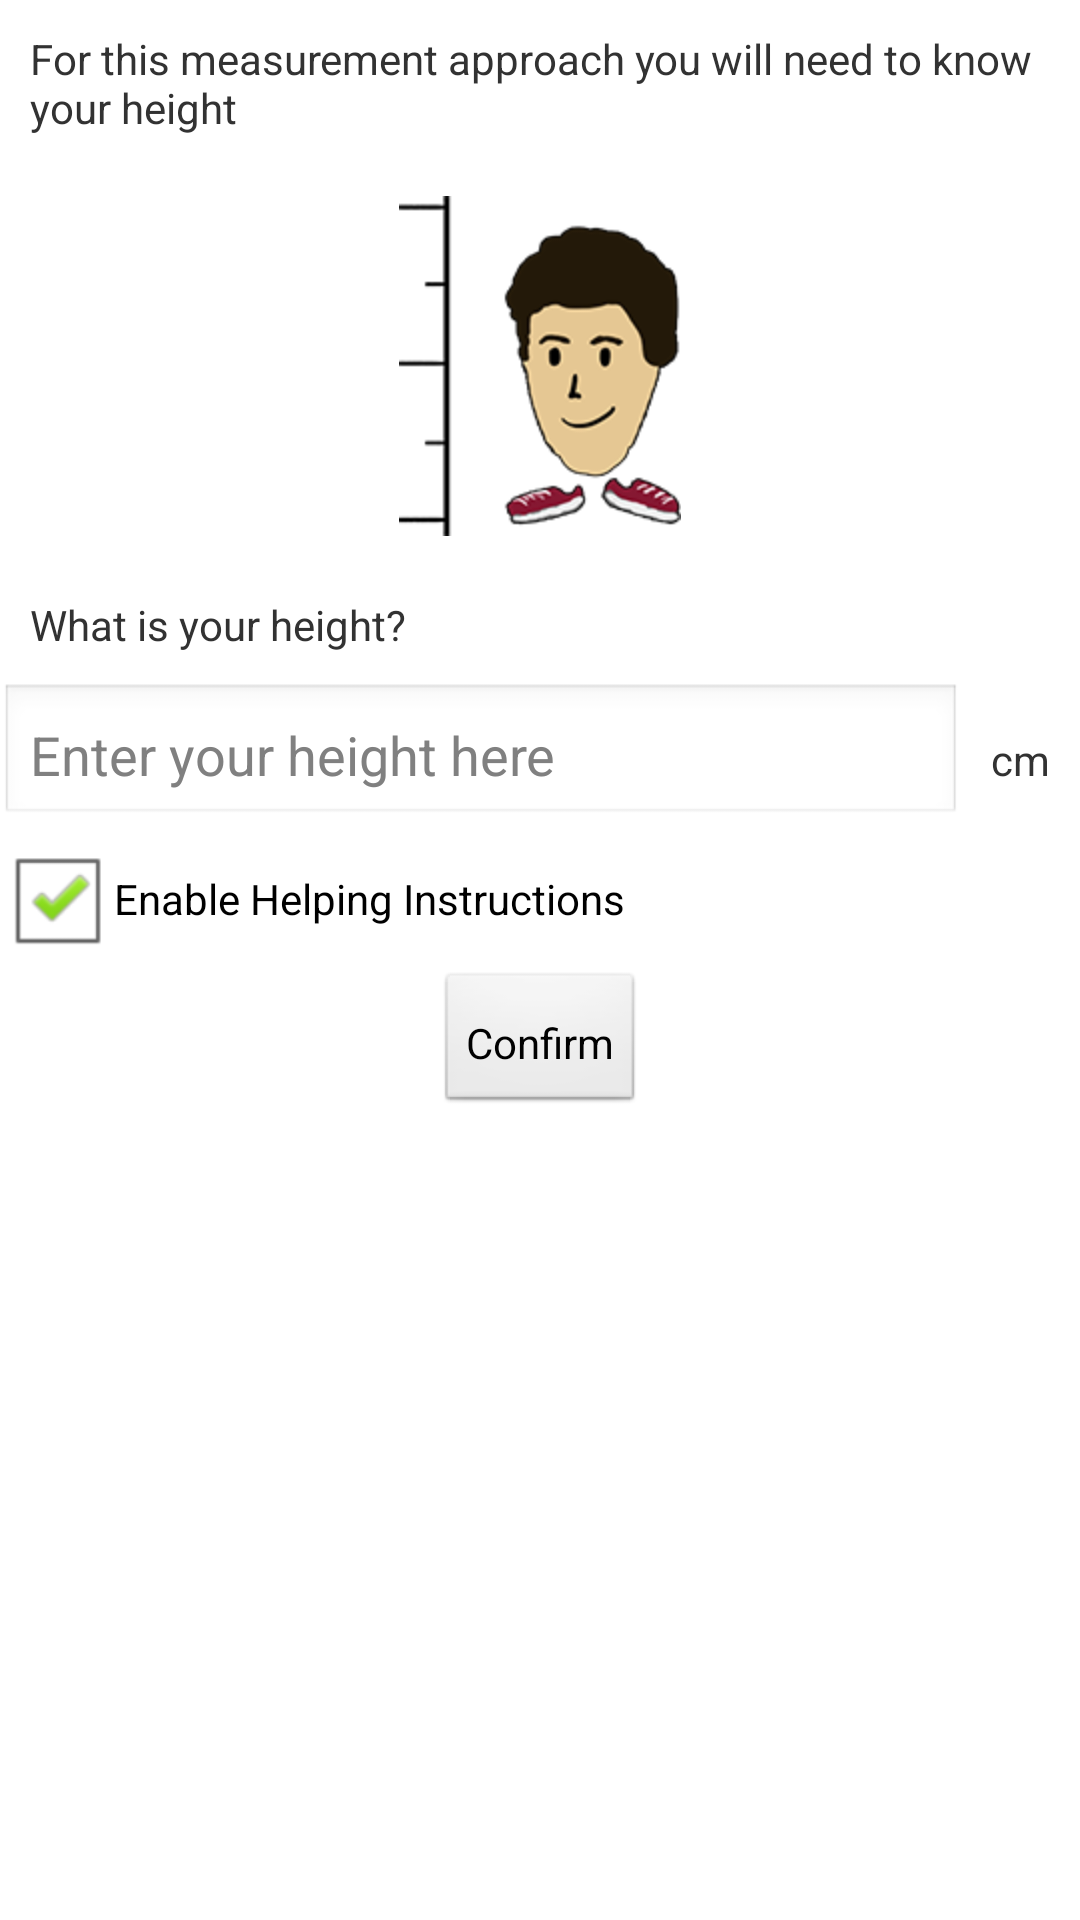

Screen size 1080w x 1920h. Icon name, then its box in pixels as (x1, y1, x2, y2):
height person: (399, 196, 681, 536)
